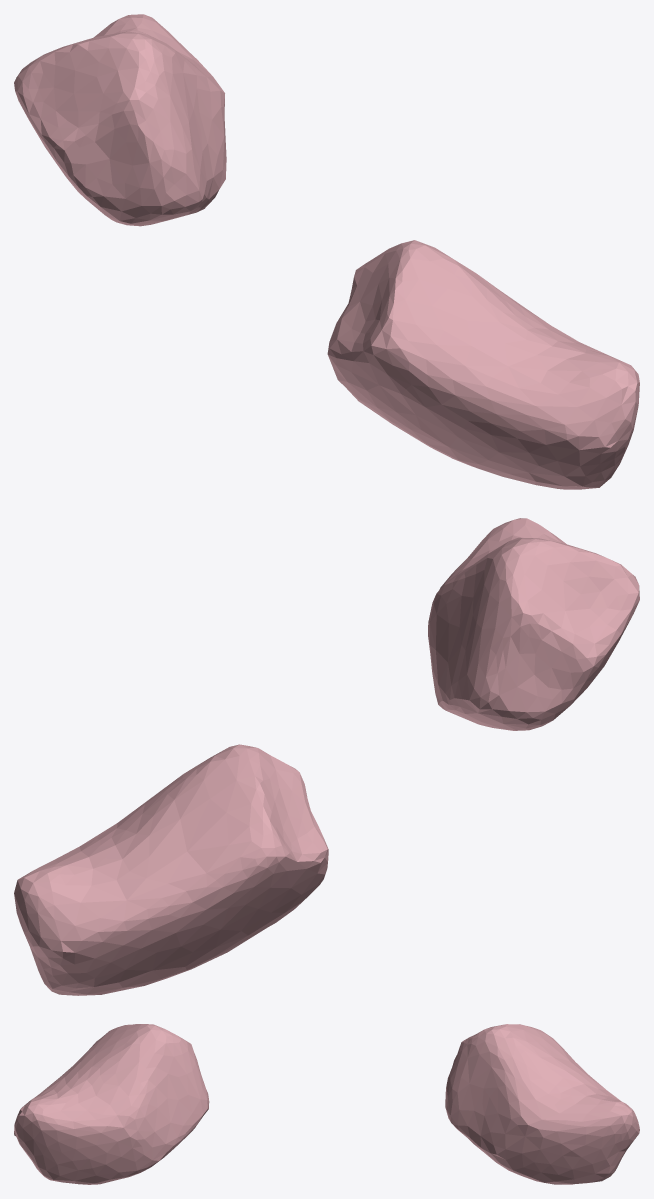
The picture shows the model from 3 angles, top to bottom: view 1: azimuth 30°, elevation 25°; view 2: azimuth 150°, elevation 25°; view 3: azimuth 270°, elevation 25°; orthographic projection. The views are drawn at different scales.
Parts seen in each view (by area): view 1: 155.obj; view 2: 155.obj; view 3: 155.obj.
Part boxes in pixels (<box>): 155.obj: <box>14,14,639,489</box>; 155.obj: <box>14,518,639,995</box>; 155.obj: <box>14,1024,639,1184</box>.
Bounding box in the file's own units: 1010 × 974 × 4214.
